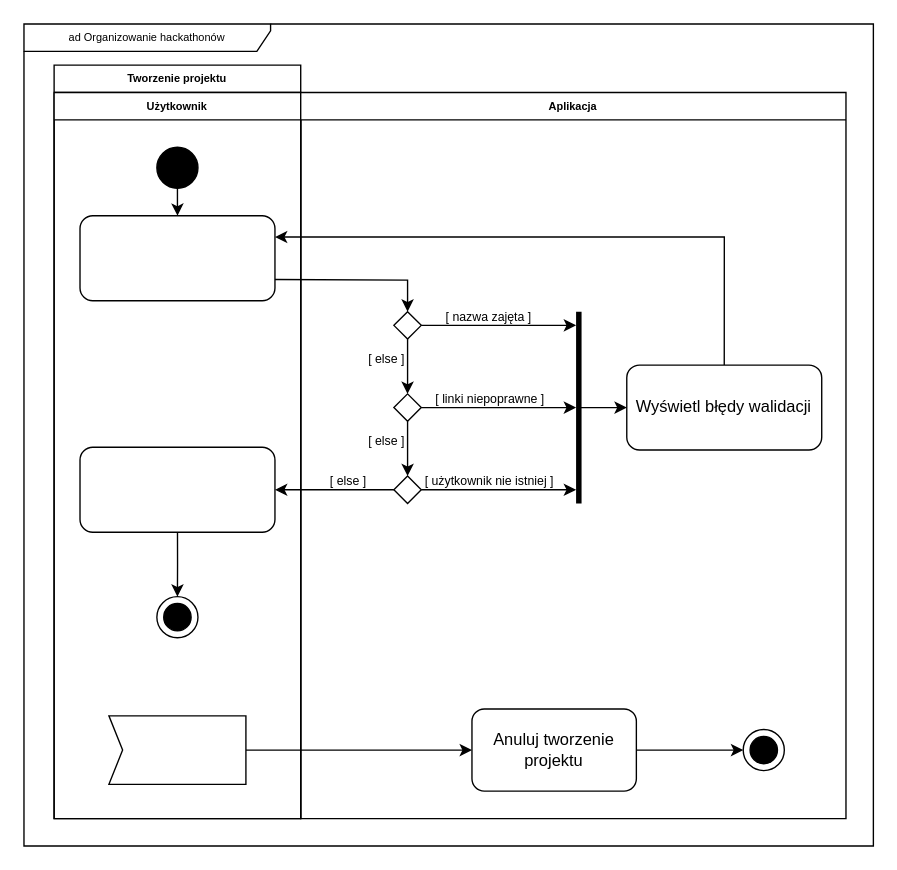
Some shapes in this 897 by 870 pixel diagram are drawn without their labels. The shapes that lost their labels are listed below. From the top down, each one's box as (x1, y1, x2, y2) in pixels, then its label:
(79, 214, 275, 301): Uzupełnij formularz tworzenia nowego projektu
(79, 446, 275, 532): Potwierdź przesłane dane
(108, 714, 246, 784): Anuluj
